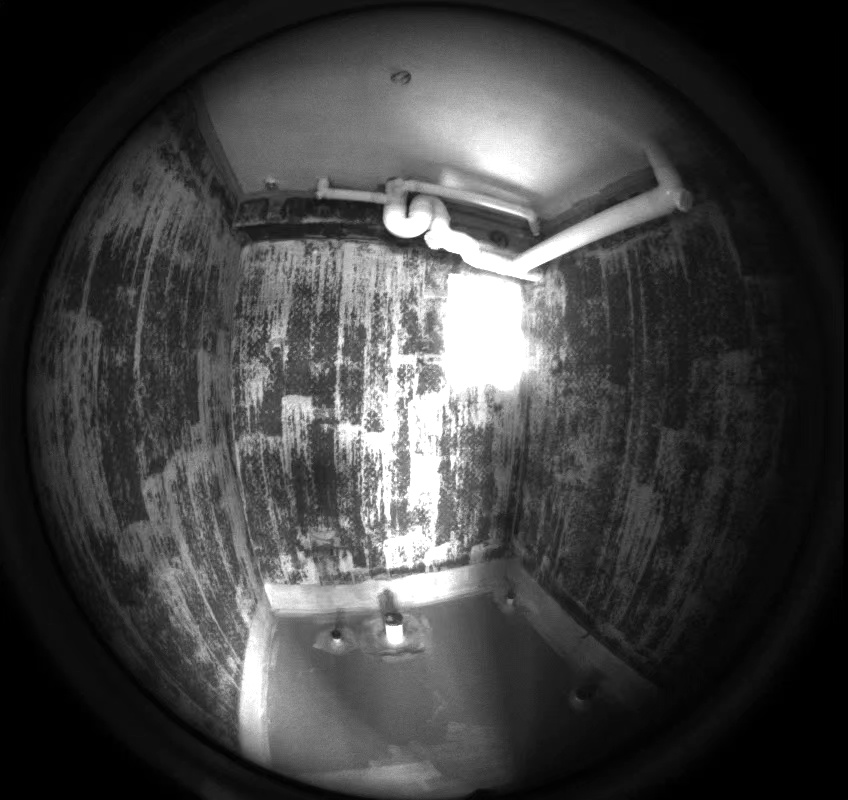Ceiling: (201, 8, 663, 218)
Electrical cable: (16, 15, 279, 190)
Floor: (239, 237, 654, 795)
Pipe: (176, 125, 691, 270), (71, 26, 387, 203)
Tools: (29, 30, 598, 712), (26, 56, 404, 645), (21, 30, 398, 618)
Wall: (0, 0, 442, 745), (234, 240, 519, 581)
